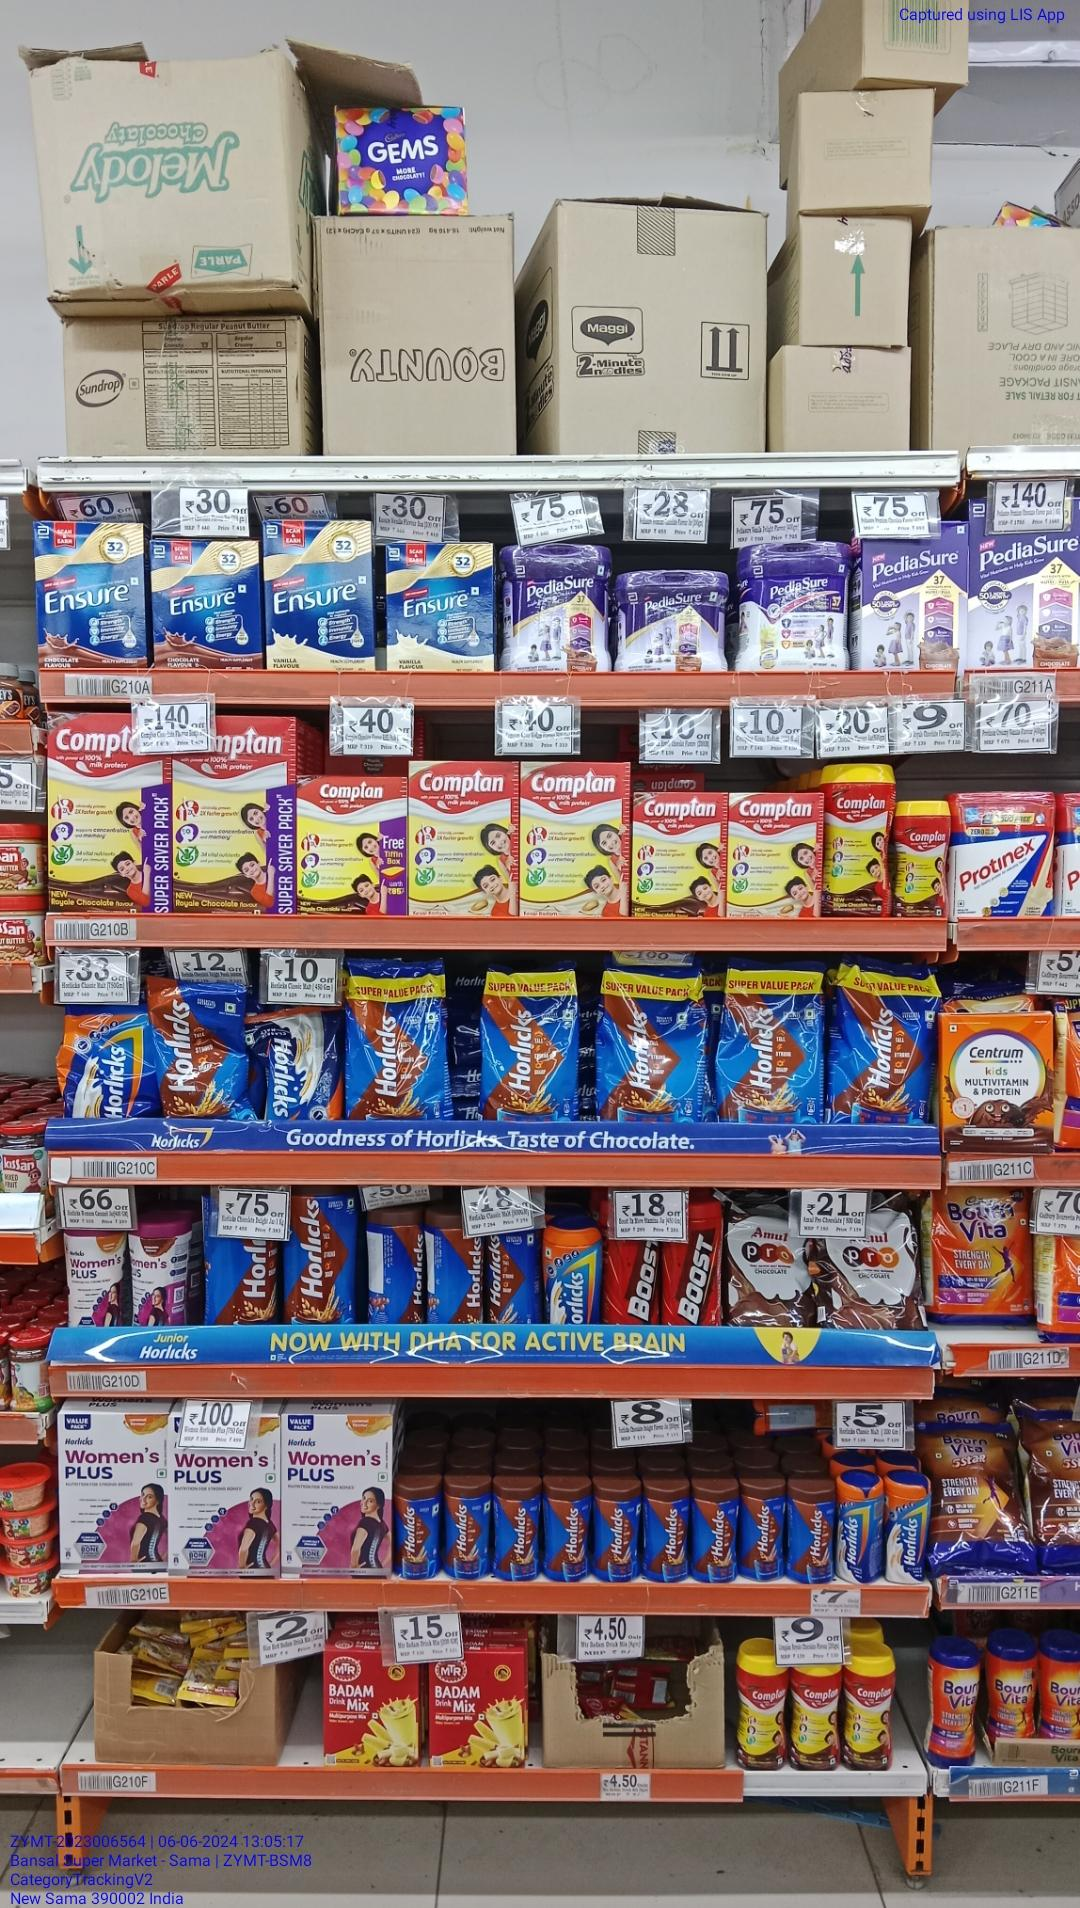BOURN_VITA_200_G_JAR: (931, 1650, 982, 1766), (986, 1638, 1041, 1746), (1045, 1639, 1080, 1746)
COMPLAN_CHOCOLATE_200_GMS_JAR: (894, 799, 949, 921), (845, 1649, 898, 1774), (738, 1649, 789, 1774), (793, 1656, 840, 1774)
COMPLAN_CHOCOLATE_200_GMS_PACK: (633, 793, 726, 917)
COMPLAN_CHOCOLATE_500_GMS_JAR: (824, 760, 891, 915)
COMPLAN_KESAR_BADAM_200_GMS_PACK: (733, 790, 818, 917)
ENSURE_VANILLA_400_G_PACK: (263, 519, 375, 671)
HORLICK_CHOCOLATE_200_G_JAR: (641, 1481, 692, 1588), (439, 1216, 485, 1326), (484, 1227, 535, 1325), (789, 1487, 838, 1586), (393, 1481, 440, 1582), (444, 1479, 490, 1580), (696, 1482, 741, 1584), (743, 1479, 785, 1584), (596, 1479, 638, 1582), (497, 1483, 540, 1582), (548, 1483, 588, 1584)
HORLICK_CHOCOLATE_500_G_JAR: (280, 1186, 357, 1325)
HORLICK_CLASSIC_MALT_200_G_JAR: (539, 1224, 599, 1330), (889, 1478, 928, 1586), (839, 1481, 878, 1583)
PEDIASURE_CHOCOLATE_500_G_PACK: (864, 519, 963, 674)
PROTINEX_VANILLA_400_G_JAR: (950, 790, 1056, 923)
